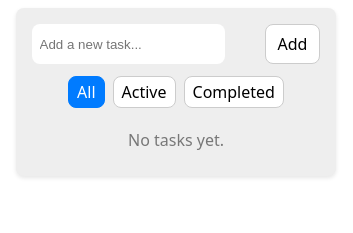
Test: T4 - special characters/emoji in title, non-empty list, filter All › T4 - should add a task with special characters or emoji
پیش‌شرط: لیست غیرخالی
Type "Existing task" into the field with placeholder "Add a new task...".
click(128, 44); type("Existing task")  # box [32,24,224,64]
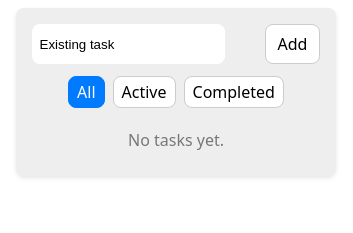
Click the button "Add".
click(292, 44)  # box [264,24,320,64]
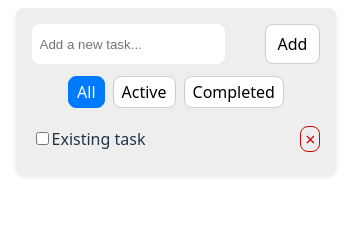
Result: the text "Existing task" is shown at [52,128,145,150]
Type "Task ☕️!!!" into the field with placeholder "Add a new task...".
click(128, 44); type("Task ☕️!!!")  # box [32,24,224,64]
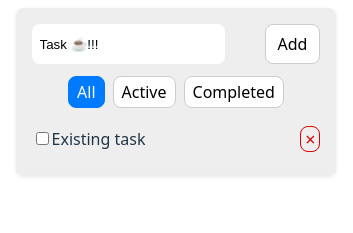
Click the button "Add".
click(292, 44)  # box [264,24,320,64]
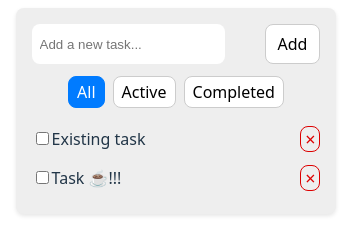
Result: the text "Task ☕️!!!" is shown at [52,167,121,189]
Result: the field with placeholder "Add a new task..." is empty at [32,24,224,64]
